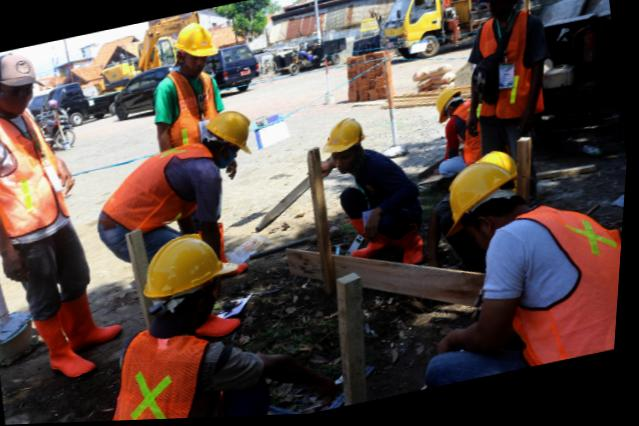helmet: (134, 227, 233, 302), (436, 160, 523, 224), (203, 104, 256, 165), (168, 18, 222, 68), (316, 113, 371, 160), (0, 48, 43, 95), (433, 90, 467, 127), (485, 154, 521, 183), (464, 0, 523, 0)
vest: (489, 206, 627, 376), (95, 135, 222, 243), (0, 96, 79, 242), (466, 11, 557, 131), (119, 322, 216, 422), (152, 67, 220, 142), (448, 108, 493, 167)
